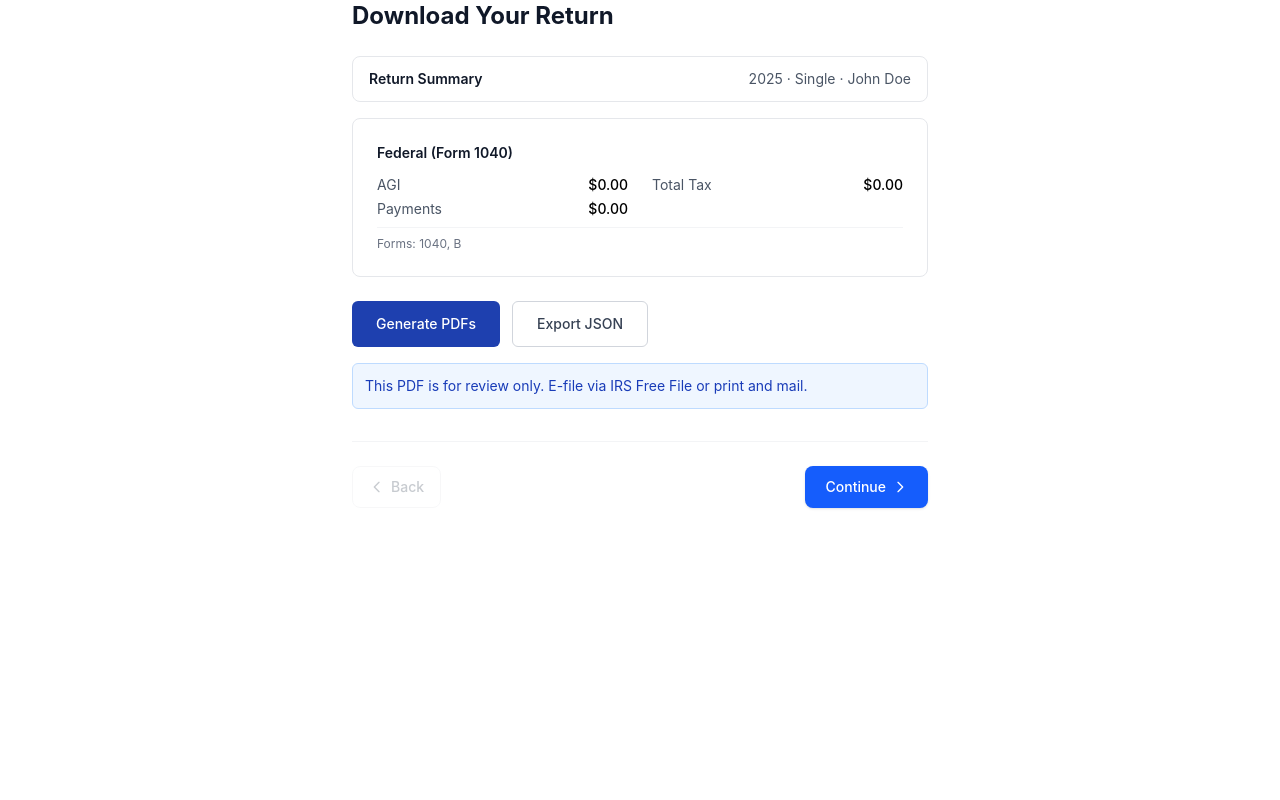
DownloadPage PII export warning › shows PII warning dialog when Export JSON is clicked
Step 1. Click the button with test id "export-json-btn" → coordinates (580, 324), box [512, 301, 648, 347]
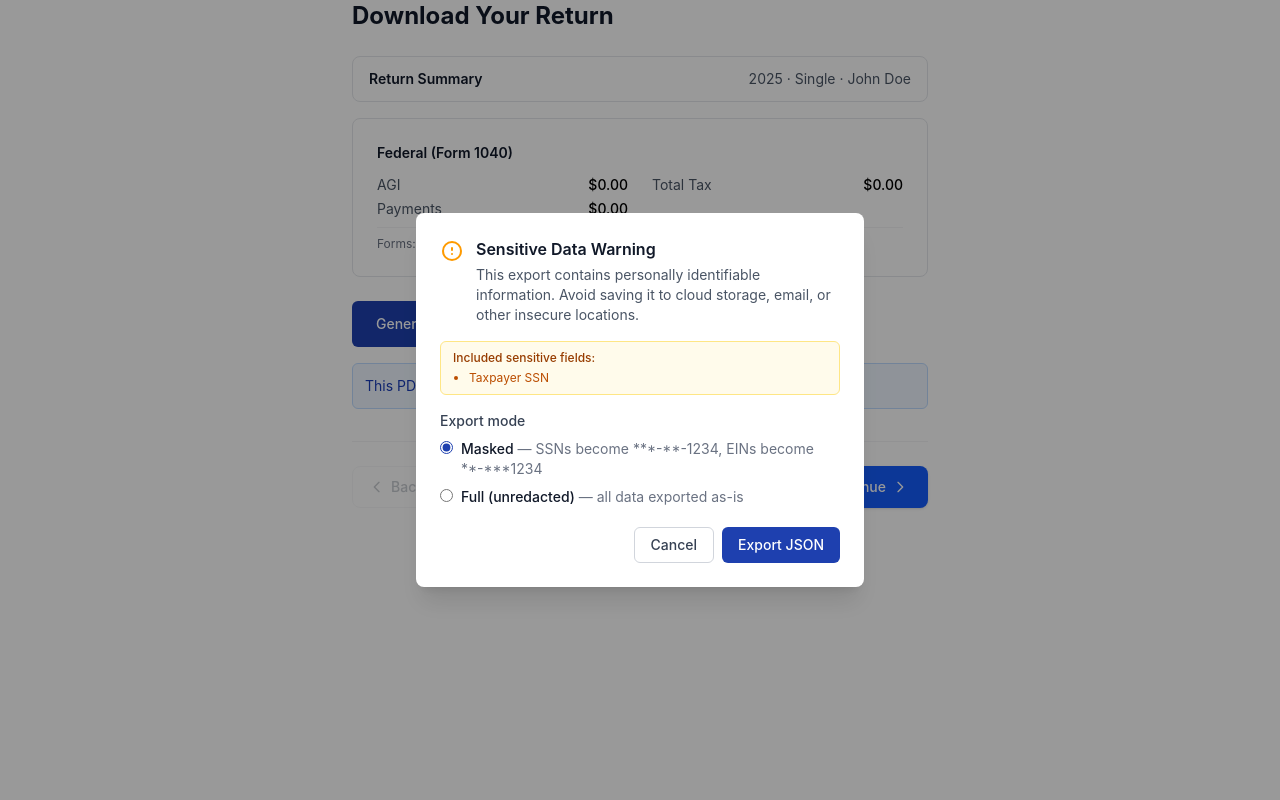
Expected: the dialog with test id "pii-export-dialog" is shown, [416, 213, 864, 587]
Expected: the heading "Sensitive Data Warning" is shown, [476, 239, 656, 259]
Expected: the list item "Taxpayer SSN" is shown, [469, 370, 549, 385]
